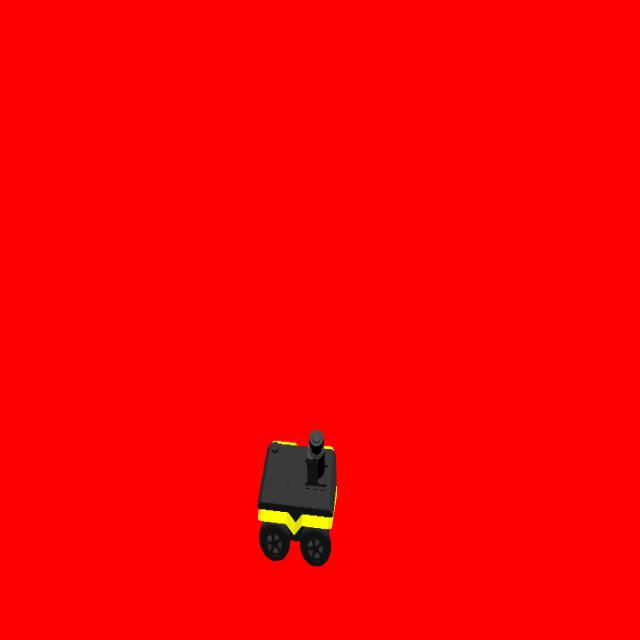jackal: (256, 430, 338, 568)
